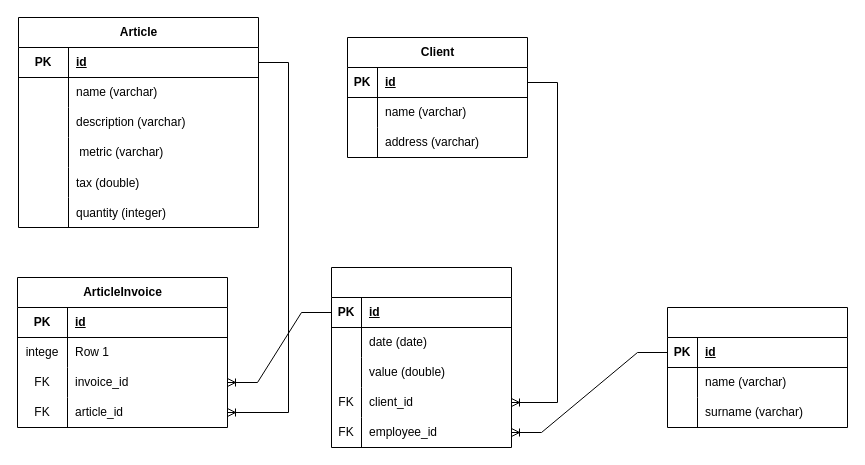
Some shapes in this 865 by 465 pixel diagram are drawn without their labels. The box of each missing label's shape, as (x1, y1, x2, y2) in pixels:
Employee: (666, 306, 848, 428)
Invoice: (330, 266, 512, 448)
